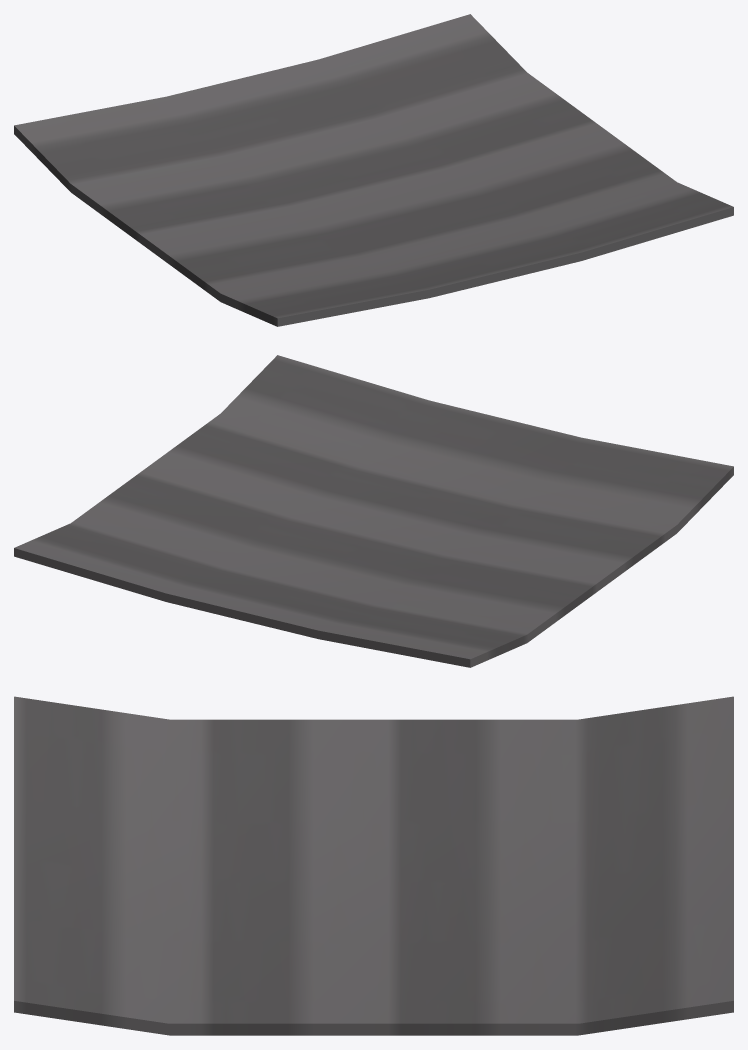
File: Plans.fbx
3 renders of one model, top to bottom at view 1: azimuth 30°, elevation 25°; view 2: azimuth 150°, elevation 25°; view 3: azimuth 270°, elevation 25°, orthographic. The views are drawn at different scales.
Visible parts, largest first — view 1: Plans; view 2: Plans; view 3: Plans.
Boxes of the visible parts, <box> form: Plans: <box>14,14,733,326</box>; Plans: <box>14,355,733,667</box>; Plans: <box>14,696,733,1035</box>.
Size of the model in its own units: 43.05 by 3.05 by 43.05.
